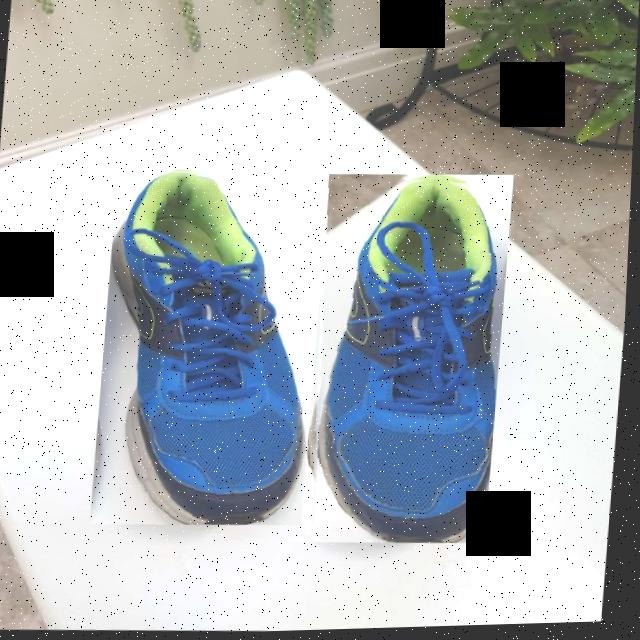shoe: (94, 163, 332, 532), (302, 172, 516, 551)
